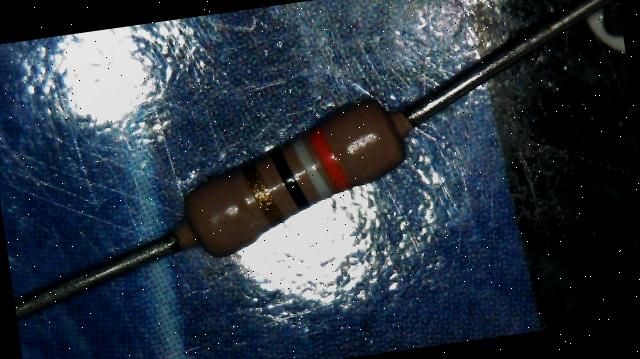black: (270, 146, 308, 213)
gold: (242, 160, 281, 226)
orange: (306, 123, 351, 193)
resistor: (154, 75, 431, 277)
white: (292, 134, 332, 202)
